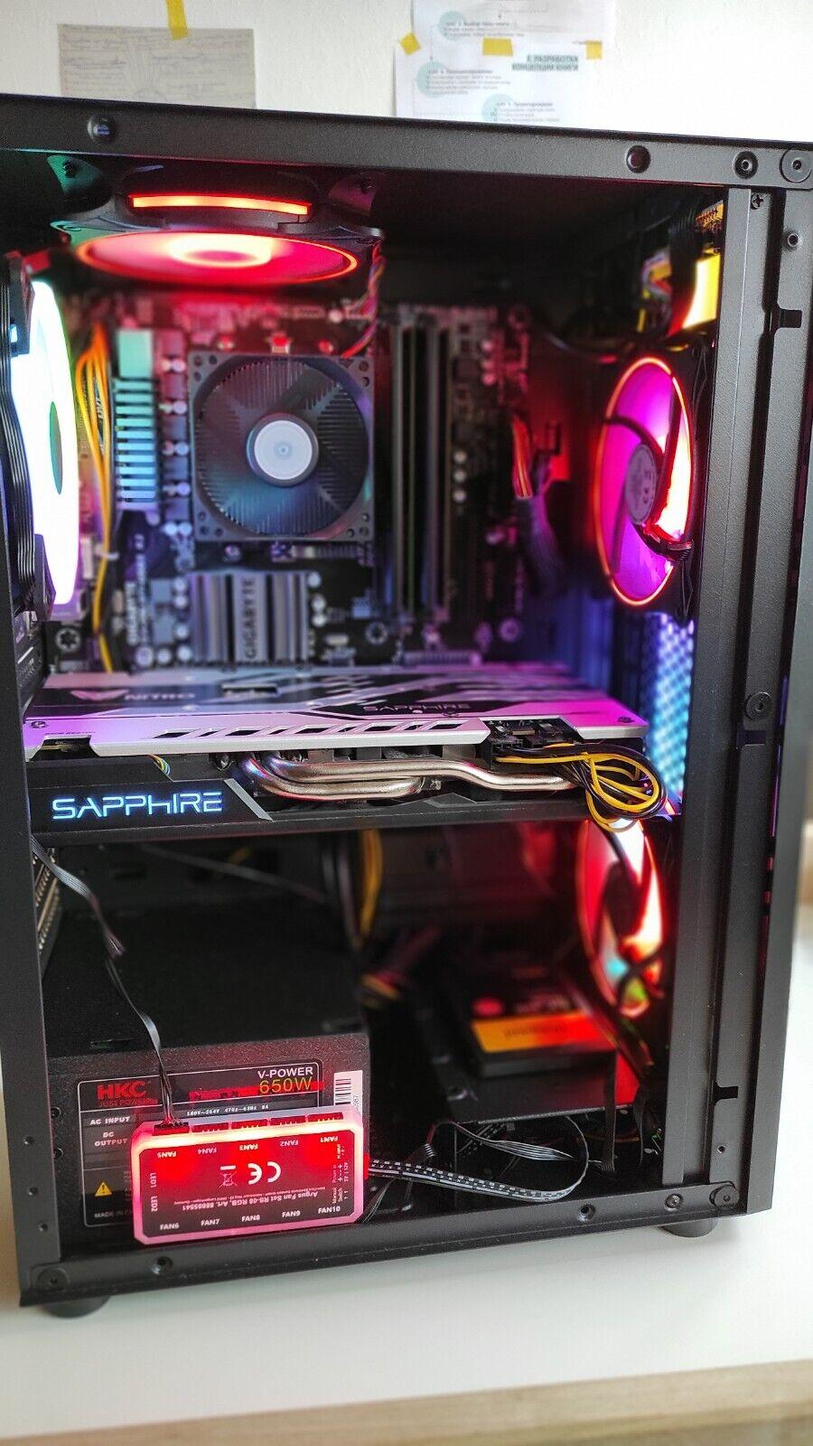DESKTOP PC: (0, 79, 813, 1293)
